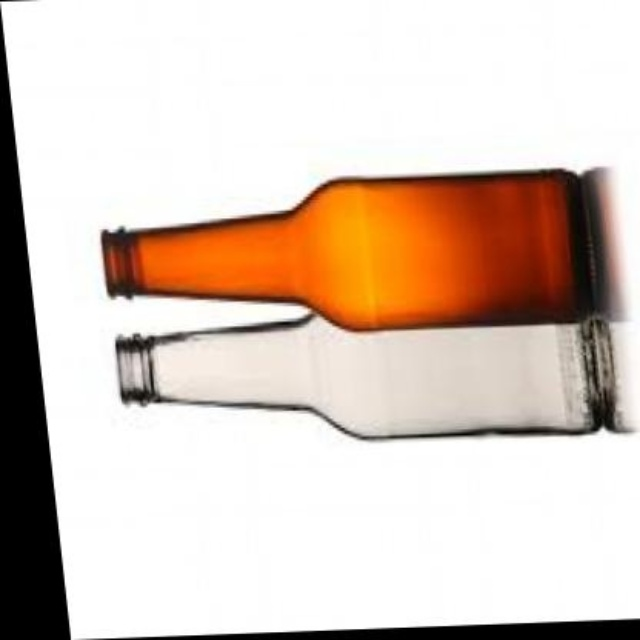trash: (102, 169, 589, 329), (115, 312, 626, 437)
